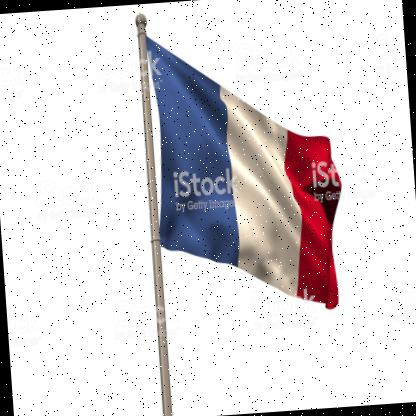fr: (147, 29, 352, 316)
